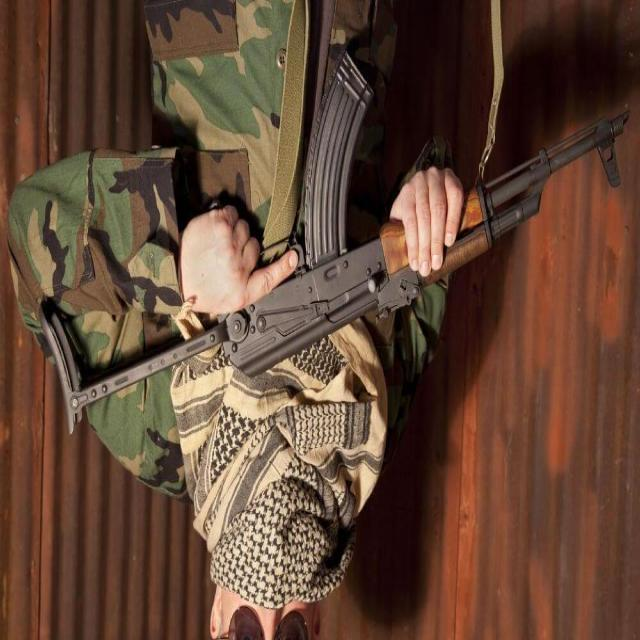weapon: (39, 44, 630, 434)
